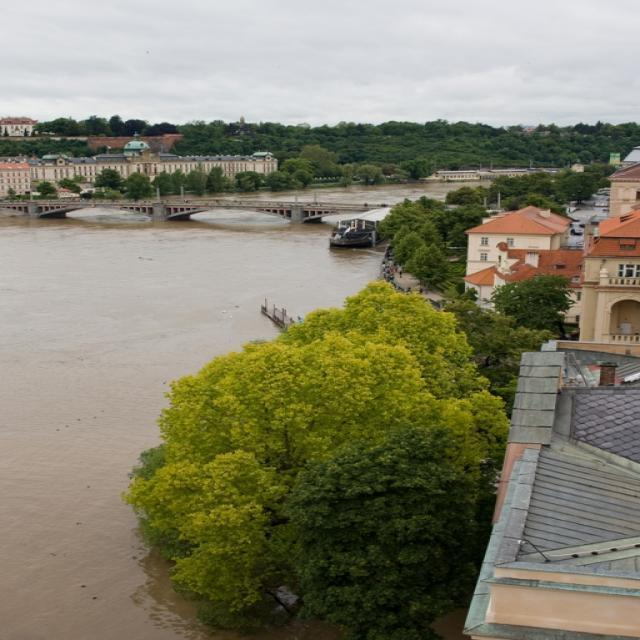flood: (0, 210, 384, 640)
house: (466, 348, 640, 640), (0, 150, 278, 193), (463, 206, 572, 299), (585, 212, 640, 349)
